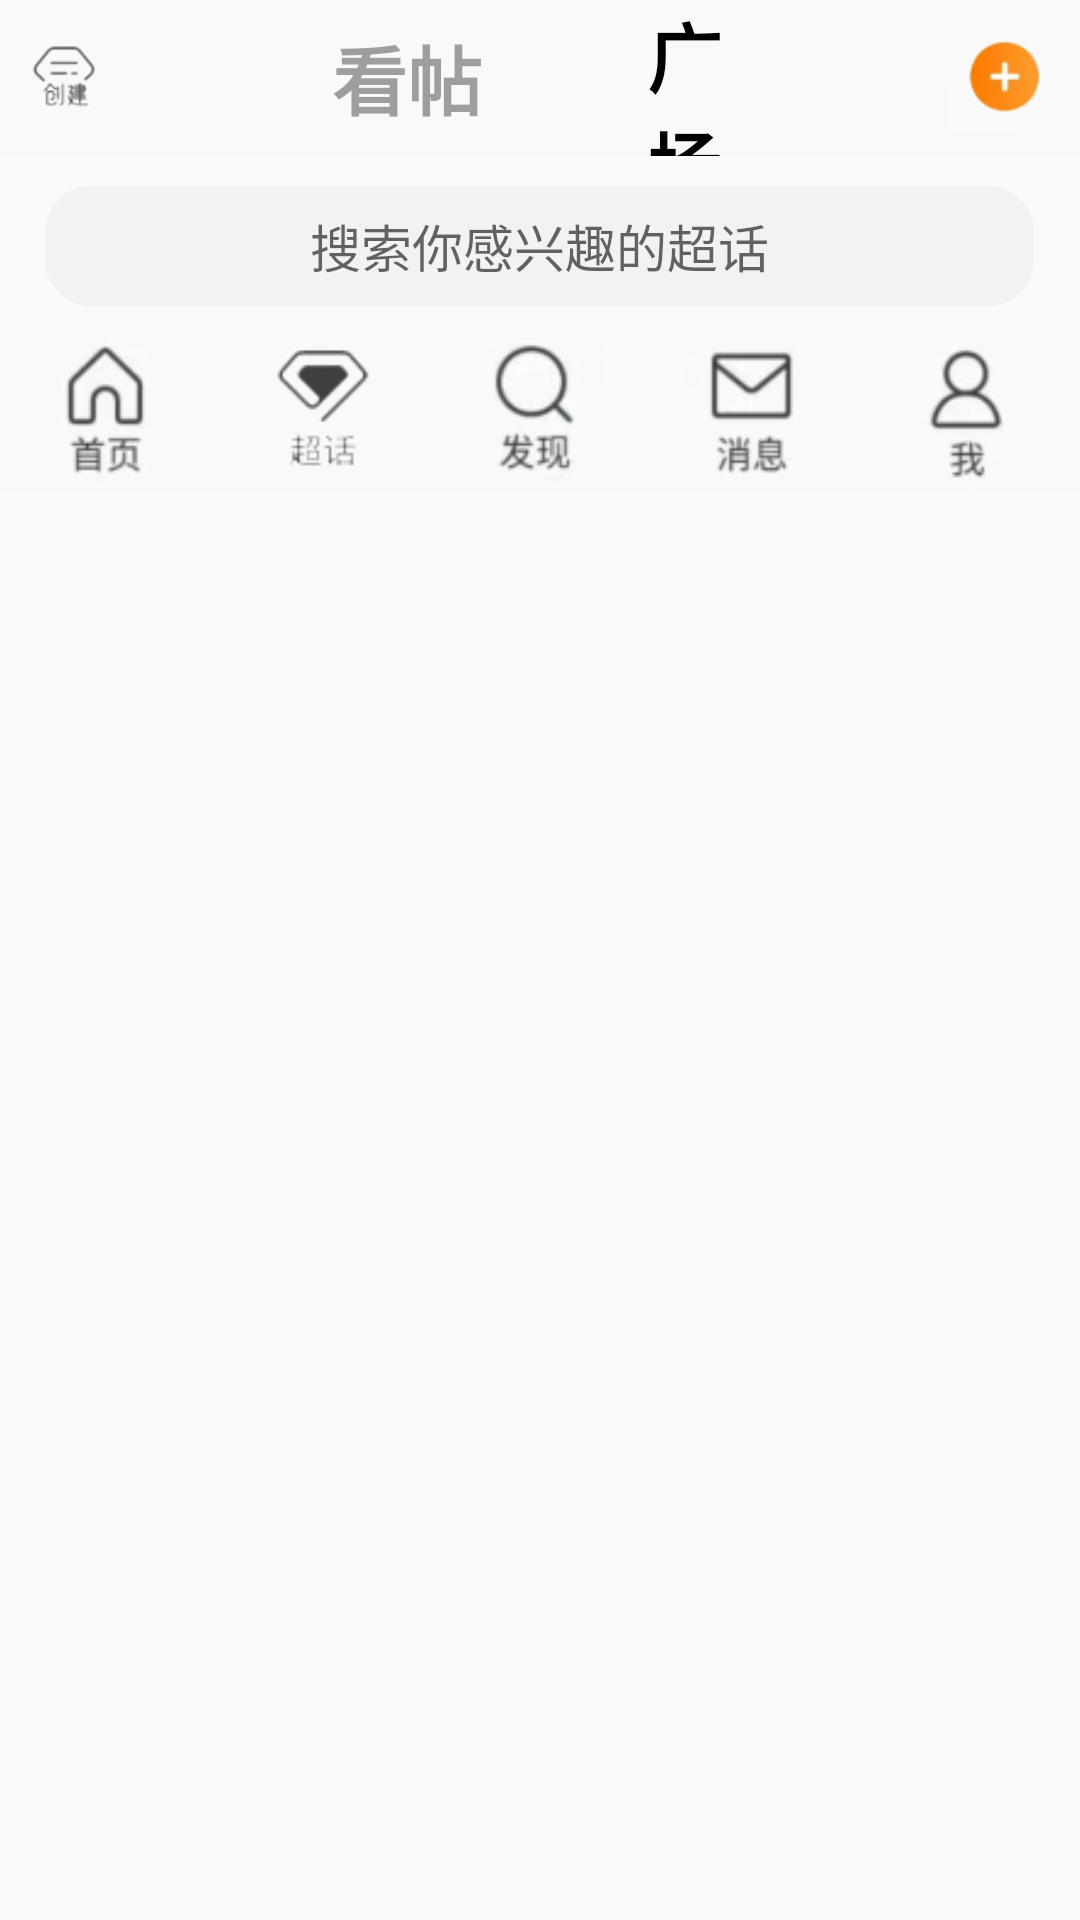

Icon click points for this 1080 x 1920 phone screenshot, format (x,y):
extend: (1004,76)
